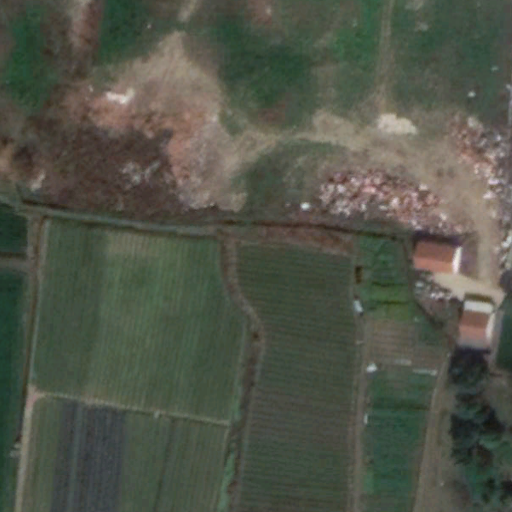msw: (315, 166, 447, 233), (456, 116, 512, 264)
